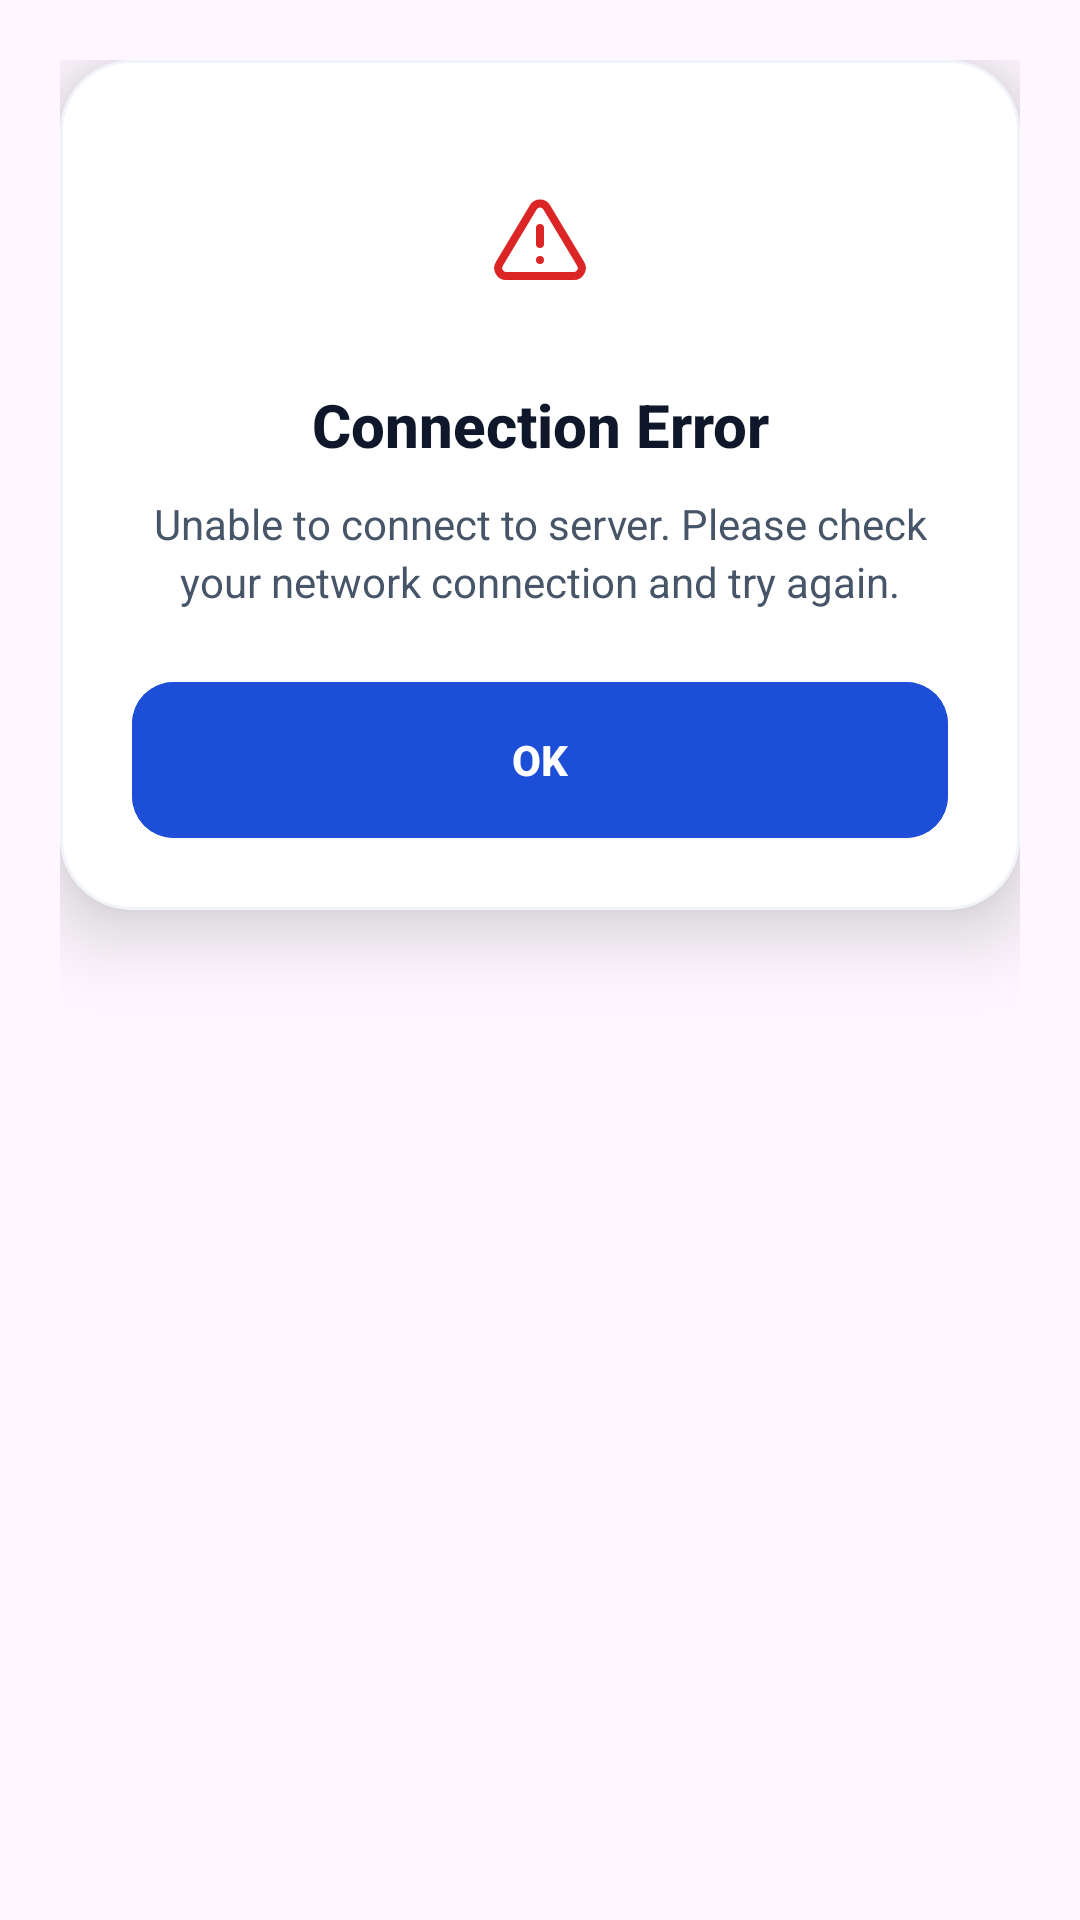

Icons on this 1080px x 1920px Android screen, each with its box as {"left": x1, "top": y1, "right": x2, "bottom": y2}:
Dialog Icon: {"left": 494, "top": 199, "right": 586, "bottom": 280}
